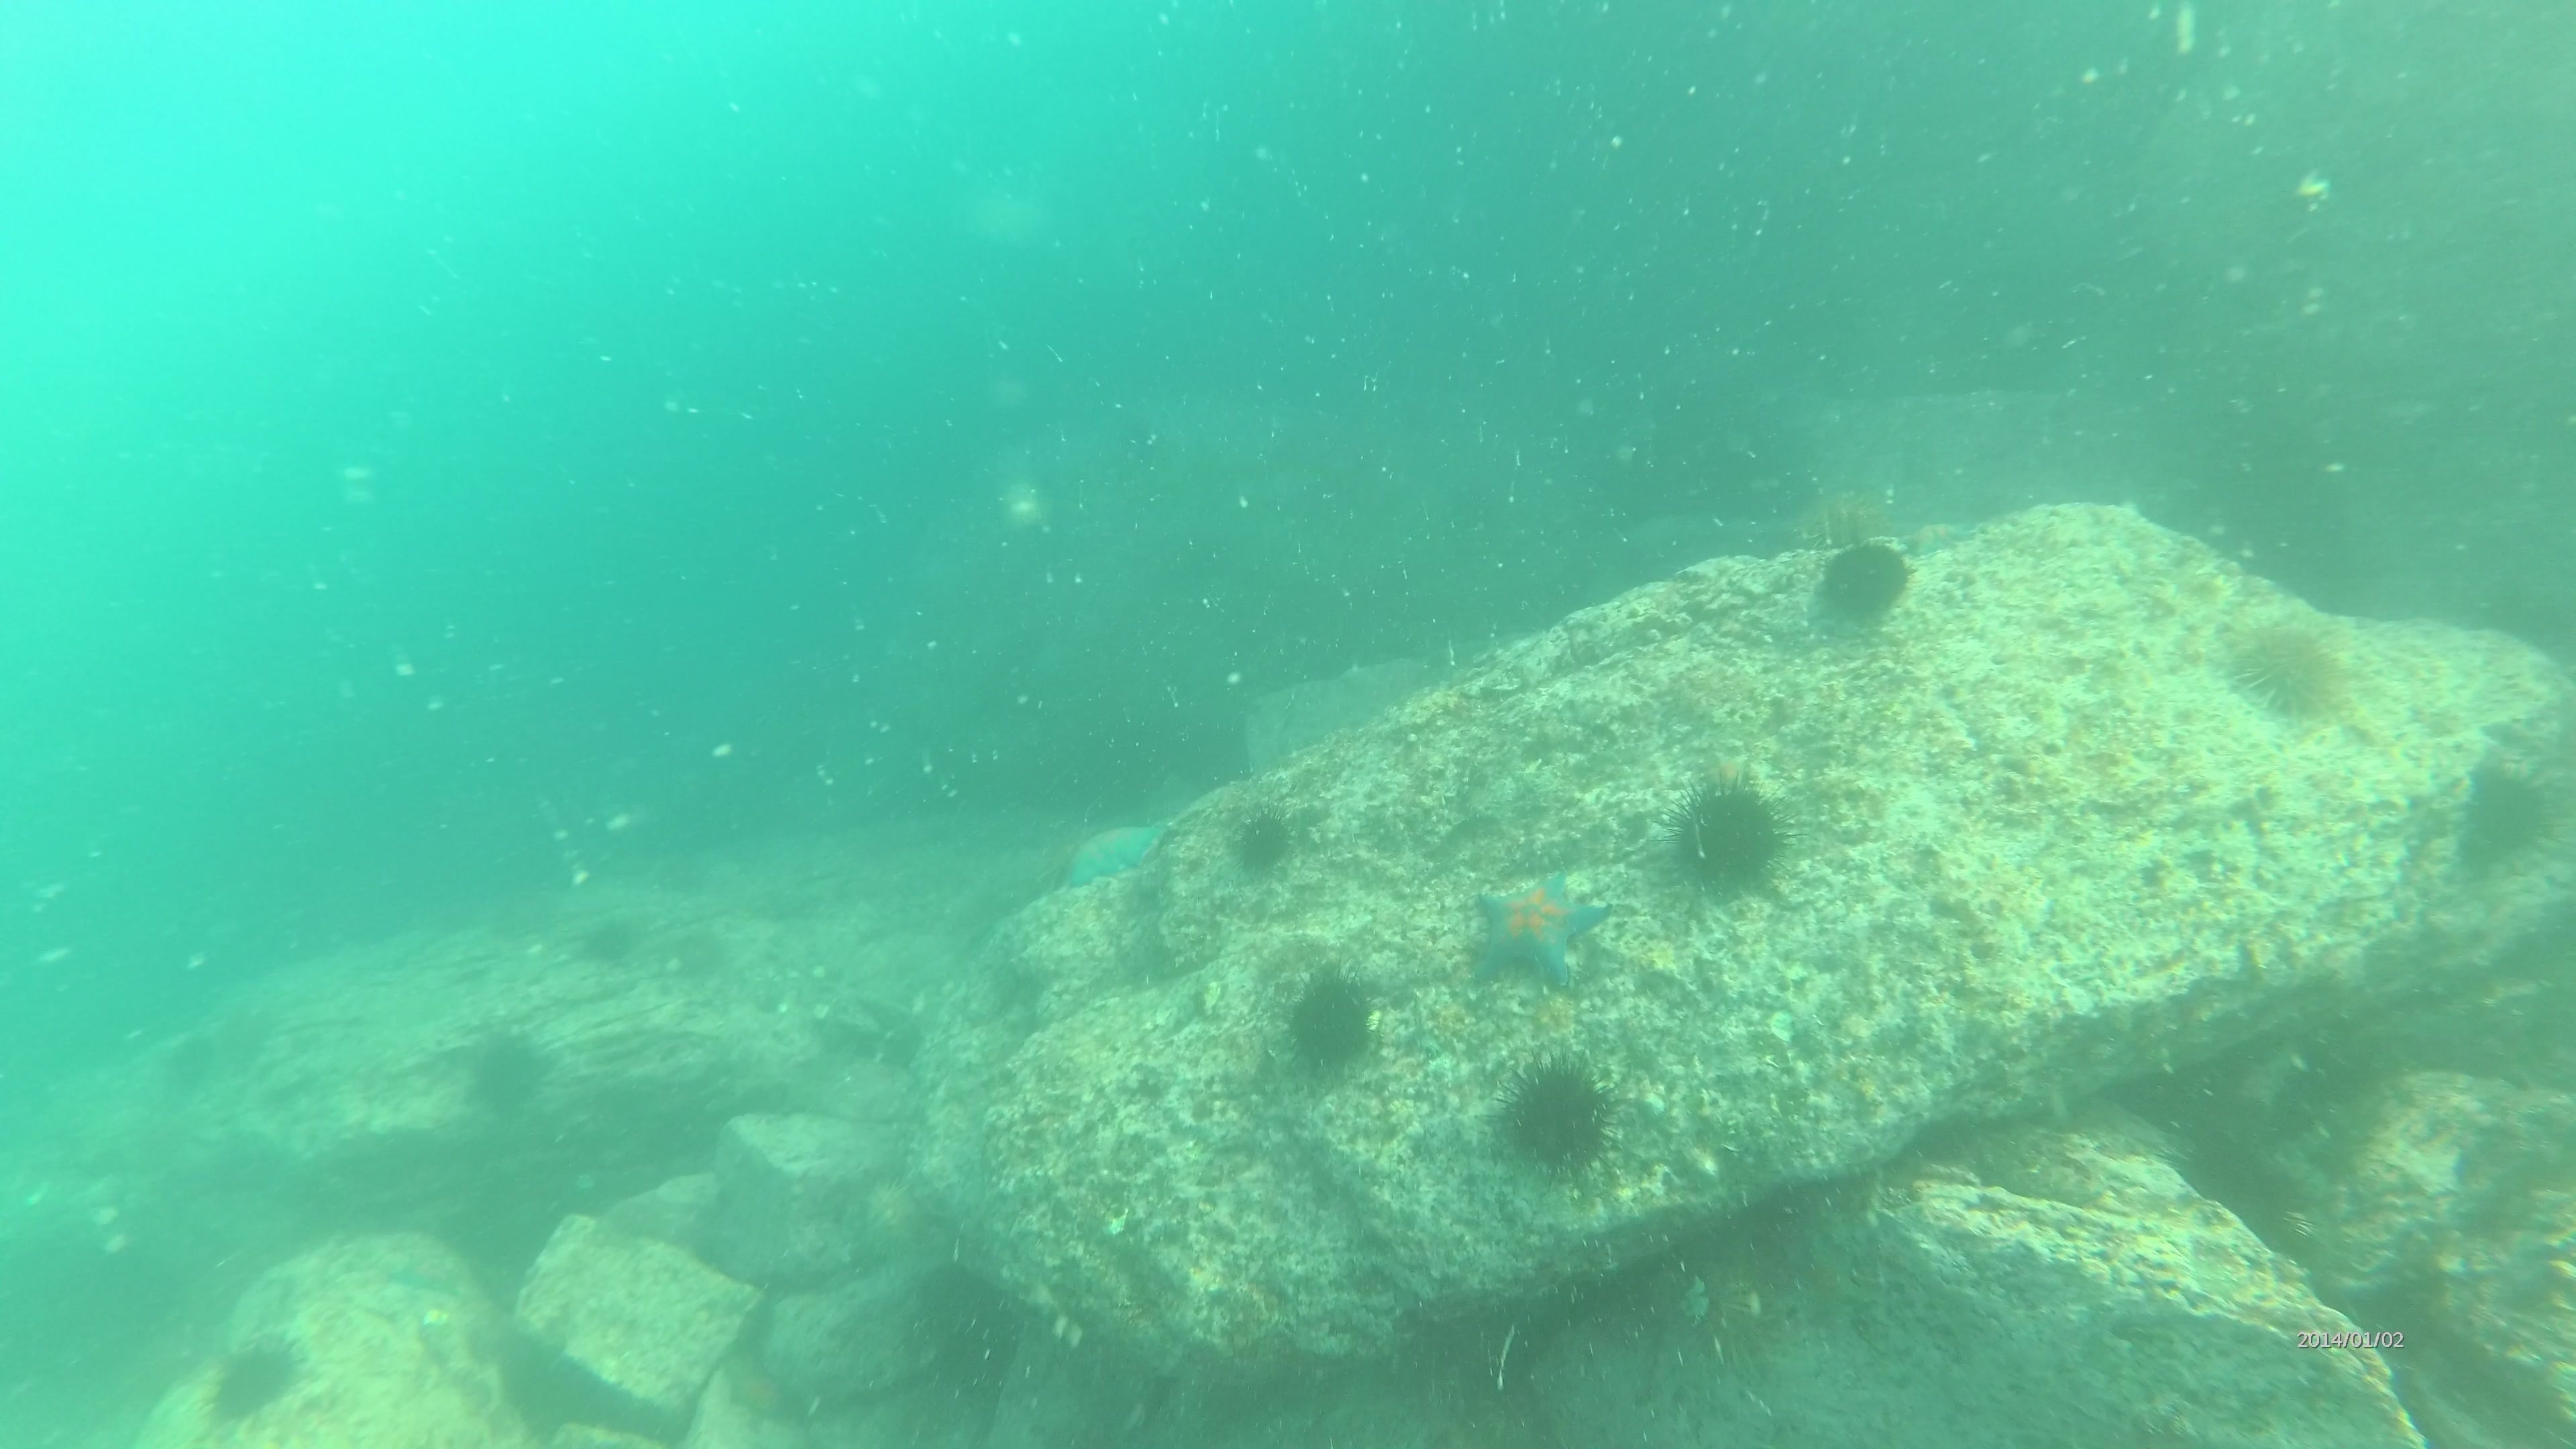echinus: (1644, 1258, 1790, 1401), (1488, 1049, 1624, 1185), (1660, 770, 1796, 904), (899, 1254, 1028, 1392), (2220, 610, 2353, 725), (1274, 962, 1385, 1083), (2454, 755, 2562, 874), (835, 1162, 945, 1269), (198, 1330, 310, 1431), (1810, 531, 1918, 633), (455, 1019, 559, 1123), (1219, 796, 1307, 883), (1790, 481, 1888, 557), (656, 915, 736, 989), (570, 908, 646, 973)
starfish: (1465, 863, 1615, 989), (1053, 814, 1169, 897), (718, 1345, 791, 1421)
